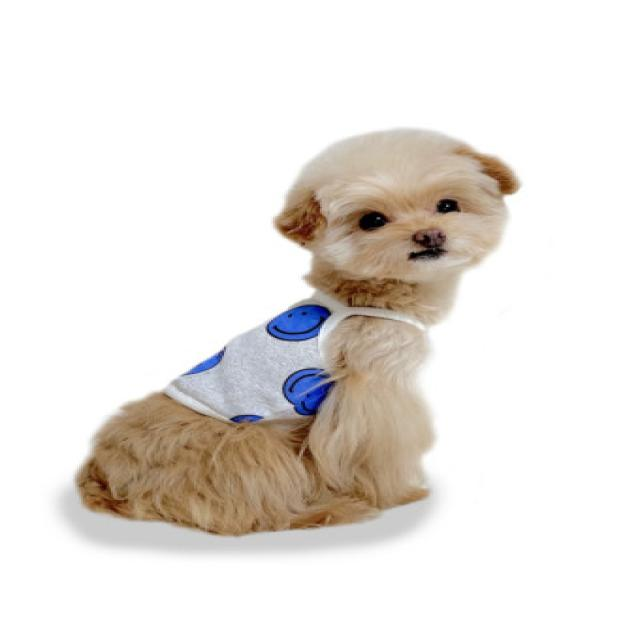cloth: (165, 291, 425, 422)
